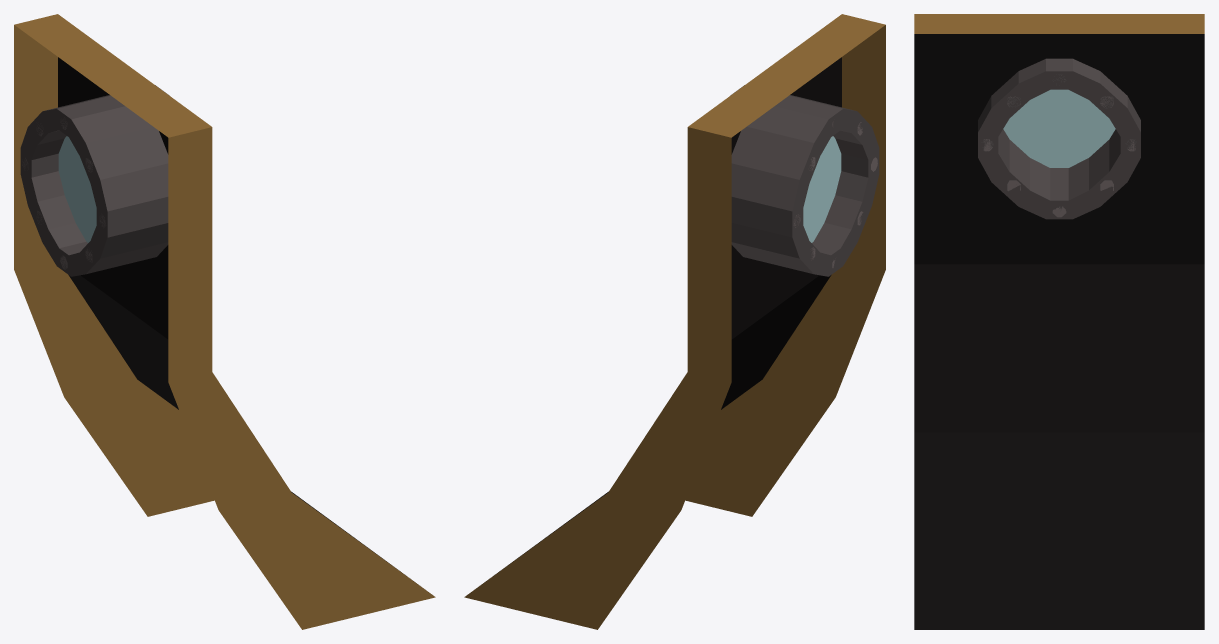
3 views of the same model, side by side, from view 1: azimuth 30°, elevation 25°; view 2: azimuth 150°, elevation 25°; view 3: azimuth 270°, elevation 25° (orthographic). The views are drawn at different scales.
Size of the model in its own units: 1.1 by 1.88 by 1.
